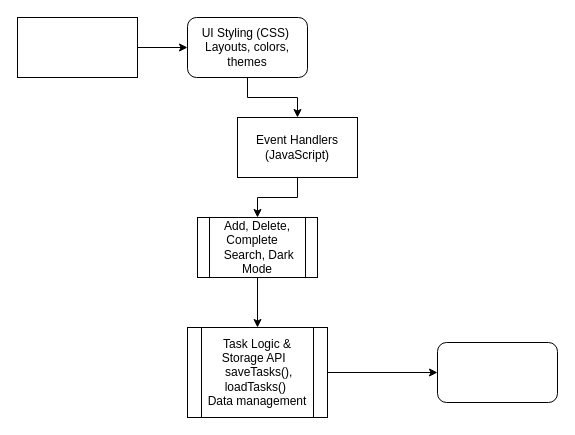
Some shapes in this 575 by 435 pixel diagram are drawn without their labels. The centre of each missing label's shape, as x and y in pixels:
"Local Storage (JSON format storage )" goes at pixel 497 372.
"User Interface (HTML) Input fields, Buttons" goes at pixel 77 47.
